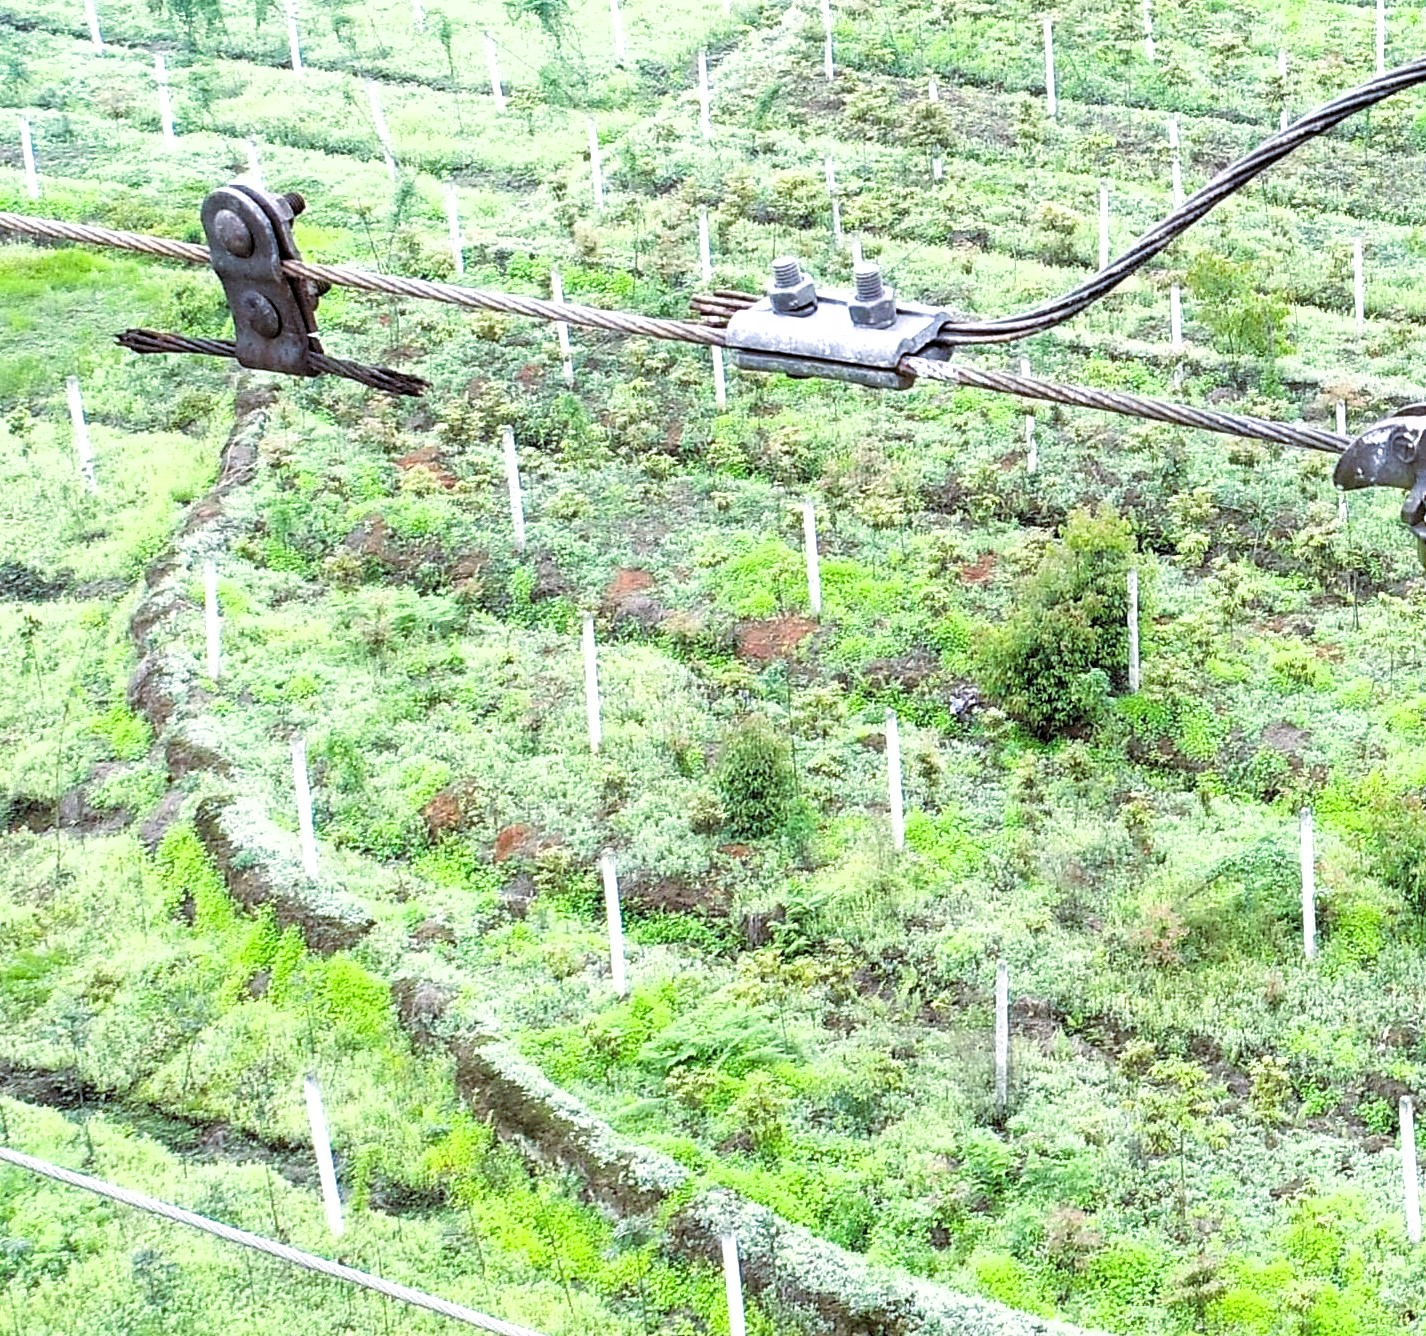Damage of shockproof hammer: (94, 164, 443, 414)
